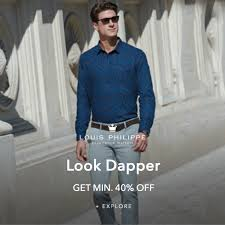F_belt: (86, 117, 143, 135)
F_dress pants: (80, 121, 142, 225)
F_shirt: (69, 39, 162, 142)
